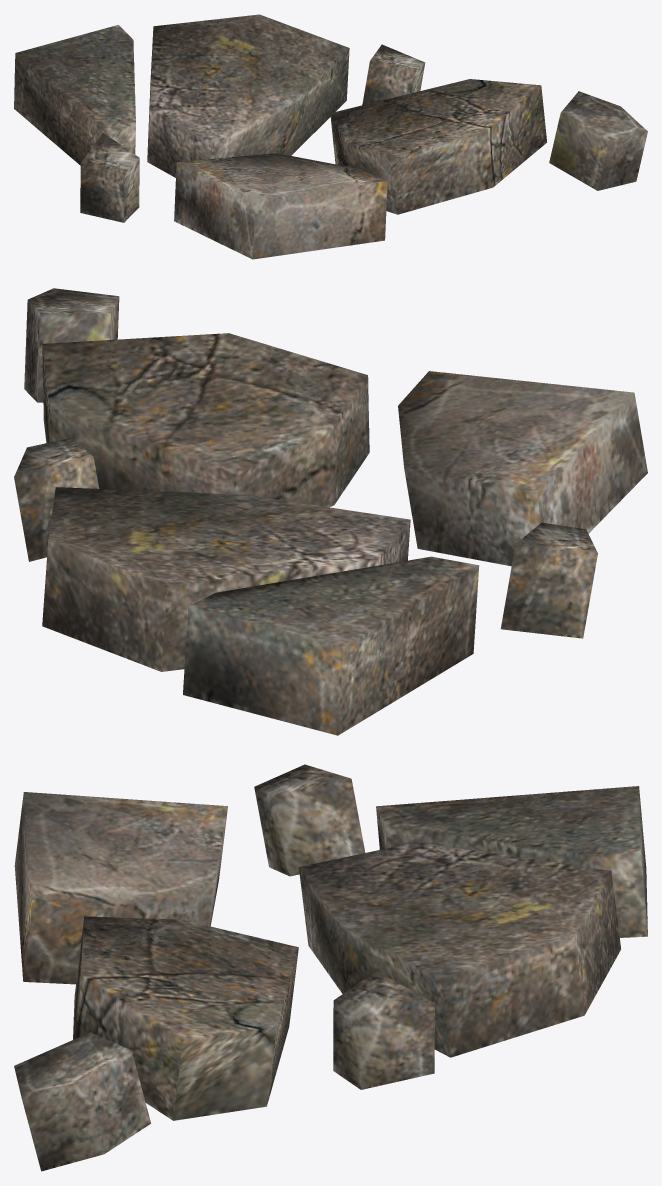
The model's file is brick3.fbx.
The picture shows the model from 3 angles, top to bottom: view 1: azimuth 30°, elevation 25°; view 2: azimuth 150°, elevation 25°; view 3: azimuth 270°, elevation 25°; orthographic projection. The views are drawn at different scales.
Visible parts, largest first — view 1: polySurface114; view 2: polySurface114; view 3: polySurface114.
Part boxes in pixels (box(x1,y1,x2,y2)): polySurface114: box(14, 14, 647, 259); polySurface114: box(14, 288, 647, 735); polySurface114: box(14, 764, 647, 1171).
Bounding box in the file's own units: 2.18 × 0.3691 × 1.82.
